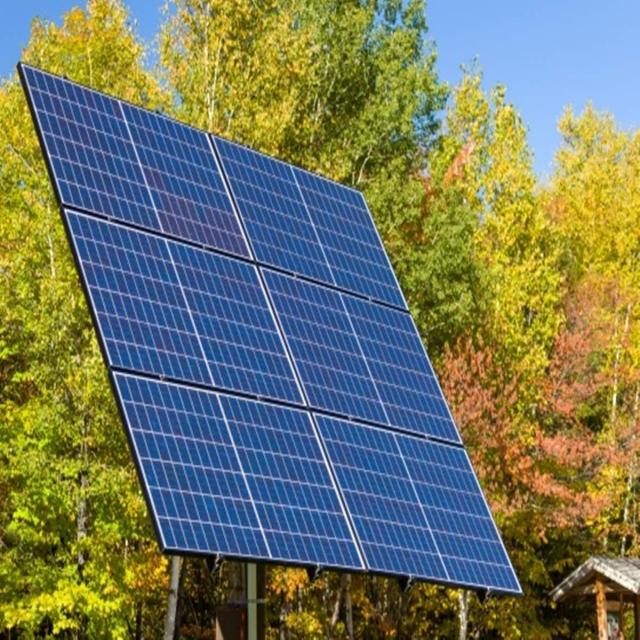clean-solar-panel: (19, 63, 521, 595)
